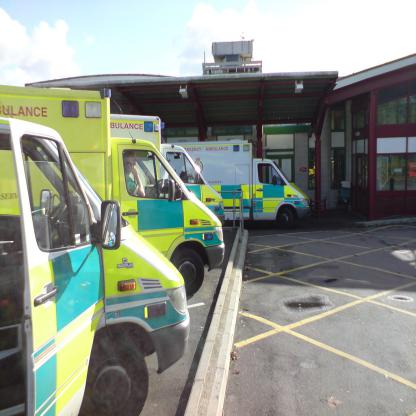Ambulance: (0, 99, 190, 416), (0, 84, 227, 300), (110, 99, 225, 228), (161, 137, 312, 230)
Truck: (5, 136, 184, 408)
